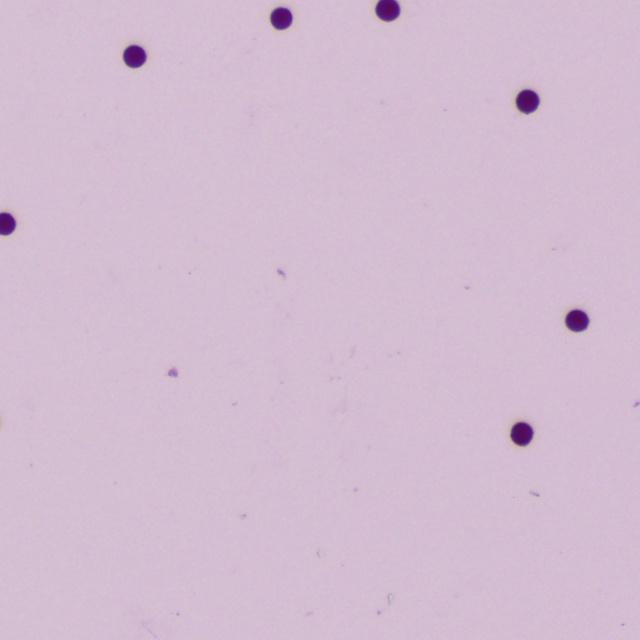viable: (516, 89, 539, 113), (565, 309, 588, 331), (123, 45, 146, 67), (271, 7, 292, 29), (376, 0, 399, 20), (511, 422, 532, 443), (0, 212, 15, 235)
